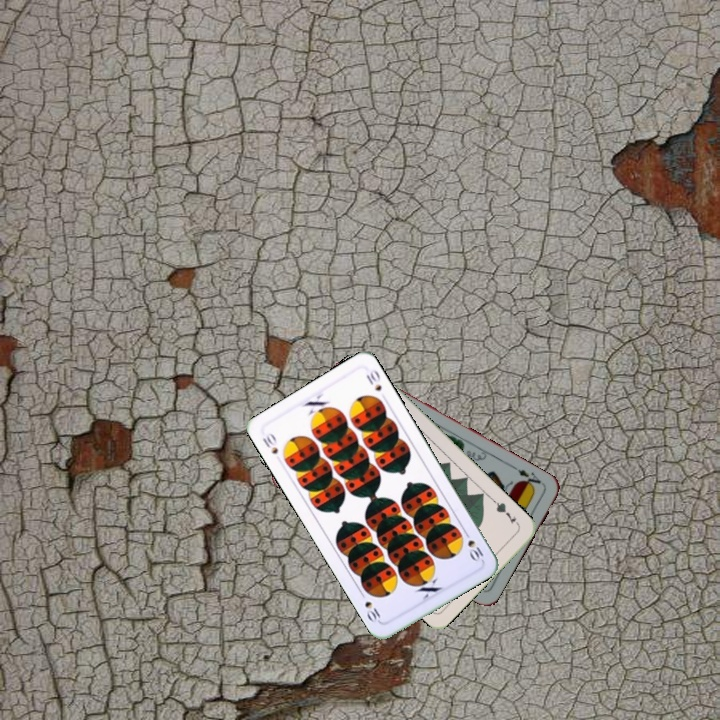EA: (509, 462, 546, 491)
G7: (490, 497, 518, 526)
S10: (460, 526, 486, 564), (258, 429, 281, 457)
